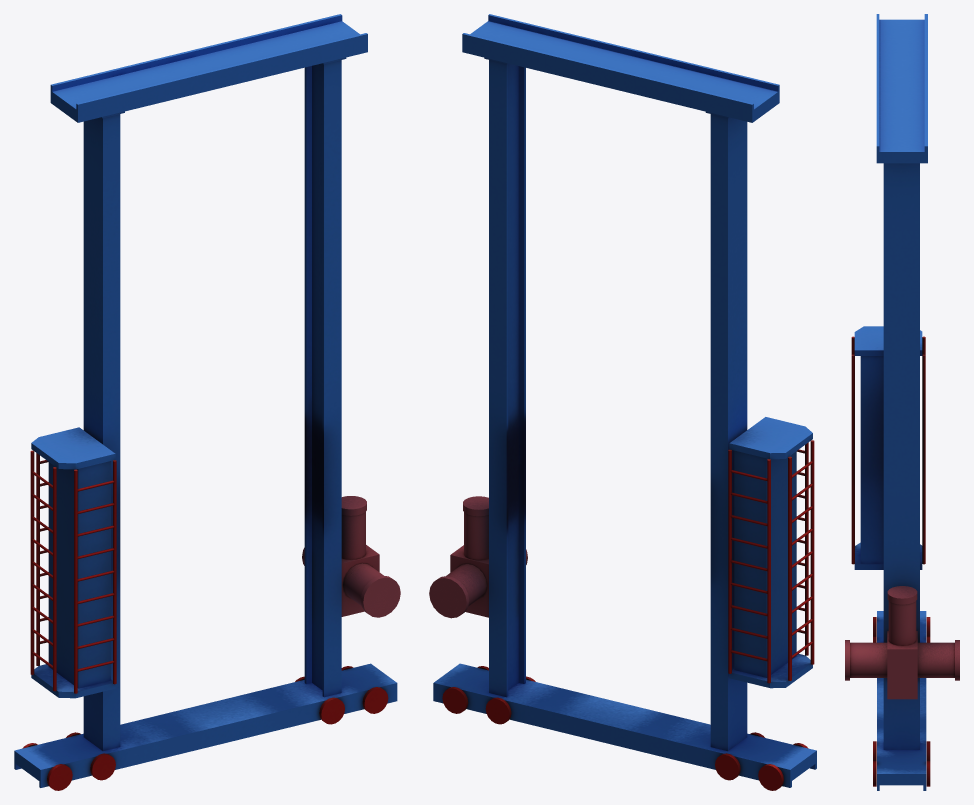
Rendered from machine.serva.148.obj.
3 renders of one model, left to right at view 1: azimuth 30°, elevation 25°; view 2: azimuth 150°, elevation 25°; view 3: azimuth 270°, elevation 25°, orthographic. The views are drawn at different scales.
Parts seen in each view (by area): view 1: duiduoji; view 2: duiduoji; view 3: duiduoji.
Part boxes in pixels (x1=…): duiduoji: x1=14, y1=14, x2=400, y2=790; duiduoji: x1=429, y1=14, x2=816, y2=790; duiduoji: x1=845, y1=14, x2=959, y2=790.
Bounding box in the file's own units: 263 × 479 × 78.33.
